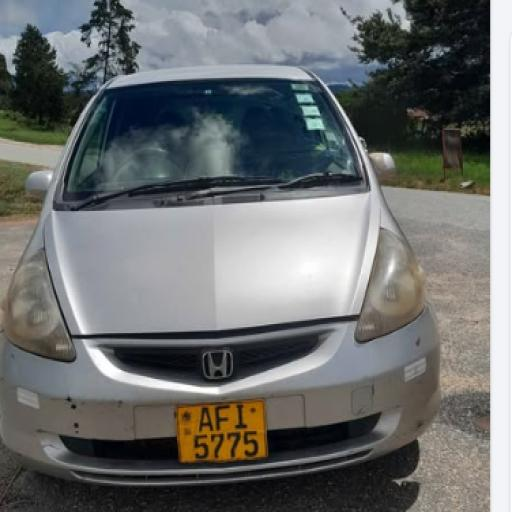number-plates: (178, 405, 264, 462)
